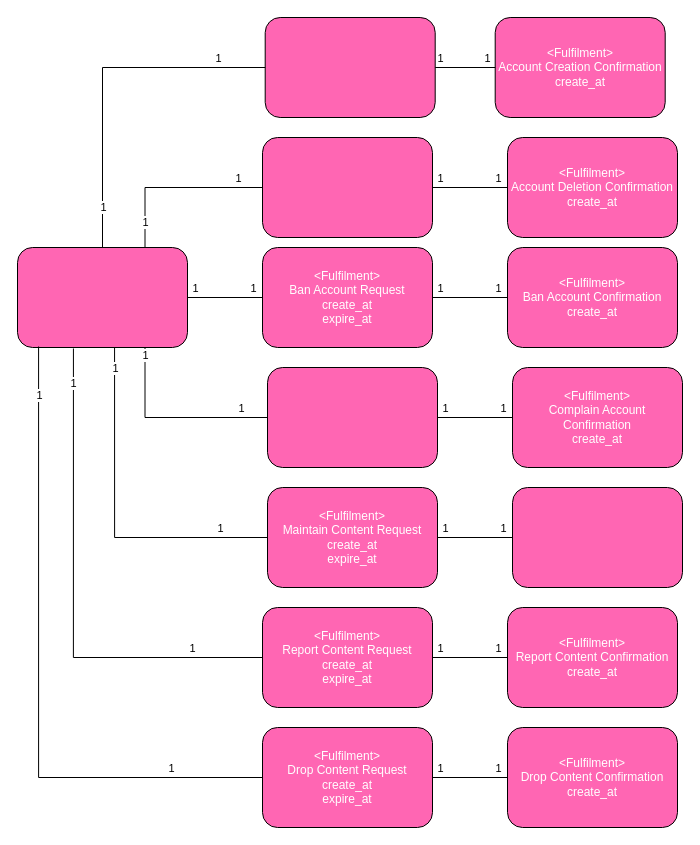
Image size: 700x845. Some labels were removed from this diagram. The centre of each missing label's shape, as x and y in pixels:
"<Contract> TW tenement user agreement create_at" belongs at point (102, 297).
"<Fulfilment> Account Creation Request create_at expire_at" belongs at point (349, 67).
"<Fulfilment> Account Deletion Request create_at expire_at" belongs at point (347, 187).
"<Fulfilment> Complain Account Request create_at expire_at" belongs at point (352, 417).
"<Fulfilment> Maintain Content Confirmation create_at" belongs at point (597, 537).
